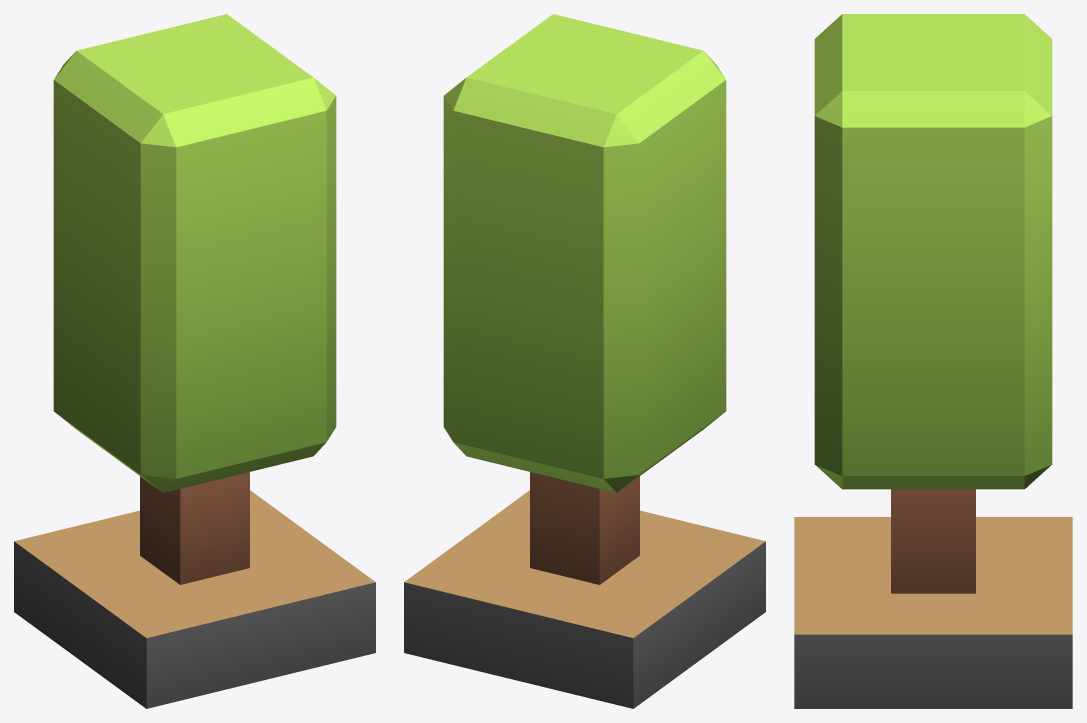
File: tree 1.fbx
3 views of the same model, side by side, from view 1: azimuth 30°, elevation 25°; view 2: azimuth 150°, elevation 25°; view 3: azimuth 270°, elevation 25° (orthographic). The views are drawn at different scales.
Visible parts, largest first — view 1: cottage_tree_1; view 2: cottage_tree_1; view 3: cottage_tree_1.
Boxes of the visible parts, bbox=[...] form: cottage_tree_1: bbox=[14, 14, 375, 708]; cottage_tree_1: bbox=[404, 14, 765, 708]; cottage_tree_1: bbox=[794, 14, 1072, 708].
Size of the model in its own units: 83.08 by 197 by 83.08.
Materials: 1 (1 with a texture image).
